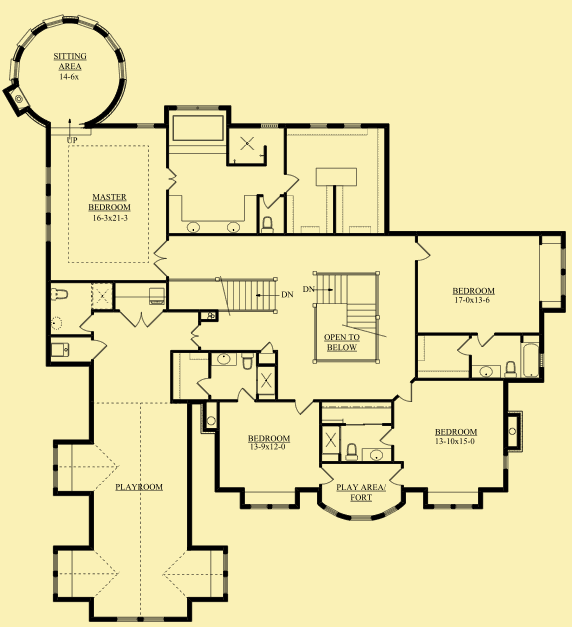door: (117, 306, 170, 327), (152, 235, 169, 276), (87, 335, 110, 363), (312, 465, 335, 488), (279, 168, 301, 192), (412, 239, 431, 265), (193, 374, 214, 397), (164, 163, 179, 195), (474, 329, 497, 348), (77, 312, 96, 334), (456, 333, 473, 357), (235, 385, 256, 404), (260, 191, 279, 210)
large sink: (48, 281, 71, 305), (339, 441, 361, 466), (256, 212, 281, 233), (240, 348, 258, 373), (503, 358, 516, 378)
small sink: (167, 216, 250, 236), (210, 349, 238, 368), (363, 445, 391, 464), (471, 365, 502, 381)
stairs: (303, 265, 385, 368), (163, 277, 293, 318)
tub: (519, 338, 542, 380)
windows: (319, 501, 401, 527), (40, 161, 59, 249), (109, 611, 168, 627), (424, 500, 478, 516), (171, 100, 222, 116), (557, 243, 571, 301), (48, 547, 63, 598), (299, 120, 367, 131), (244, 499, 295, 513), (219, 547, 232, 600), (50, 443, 63, 492)
